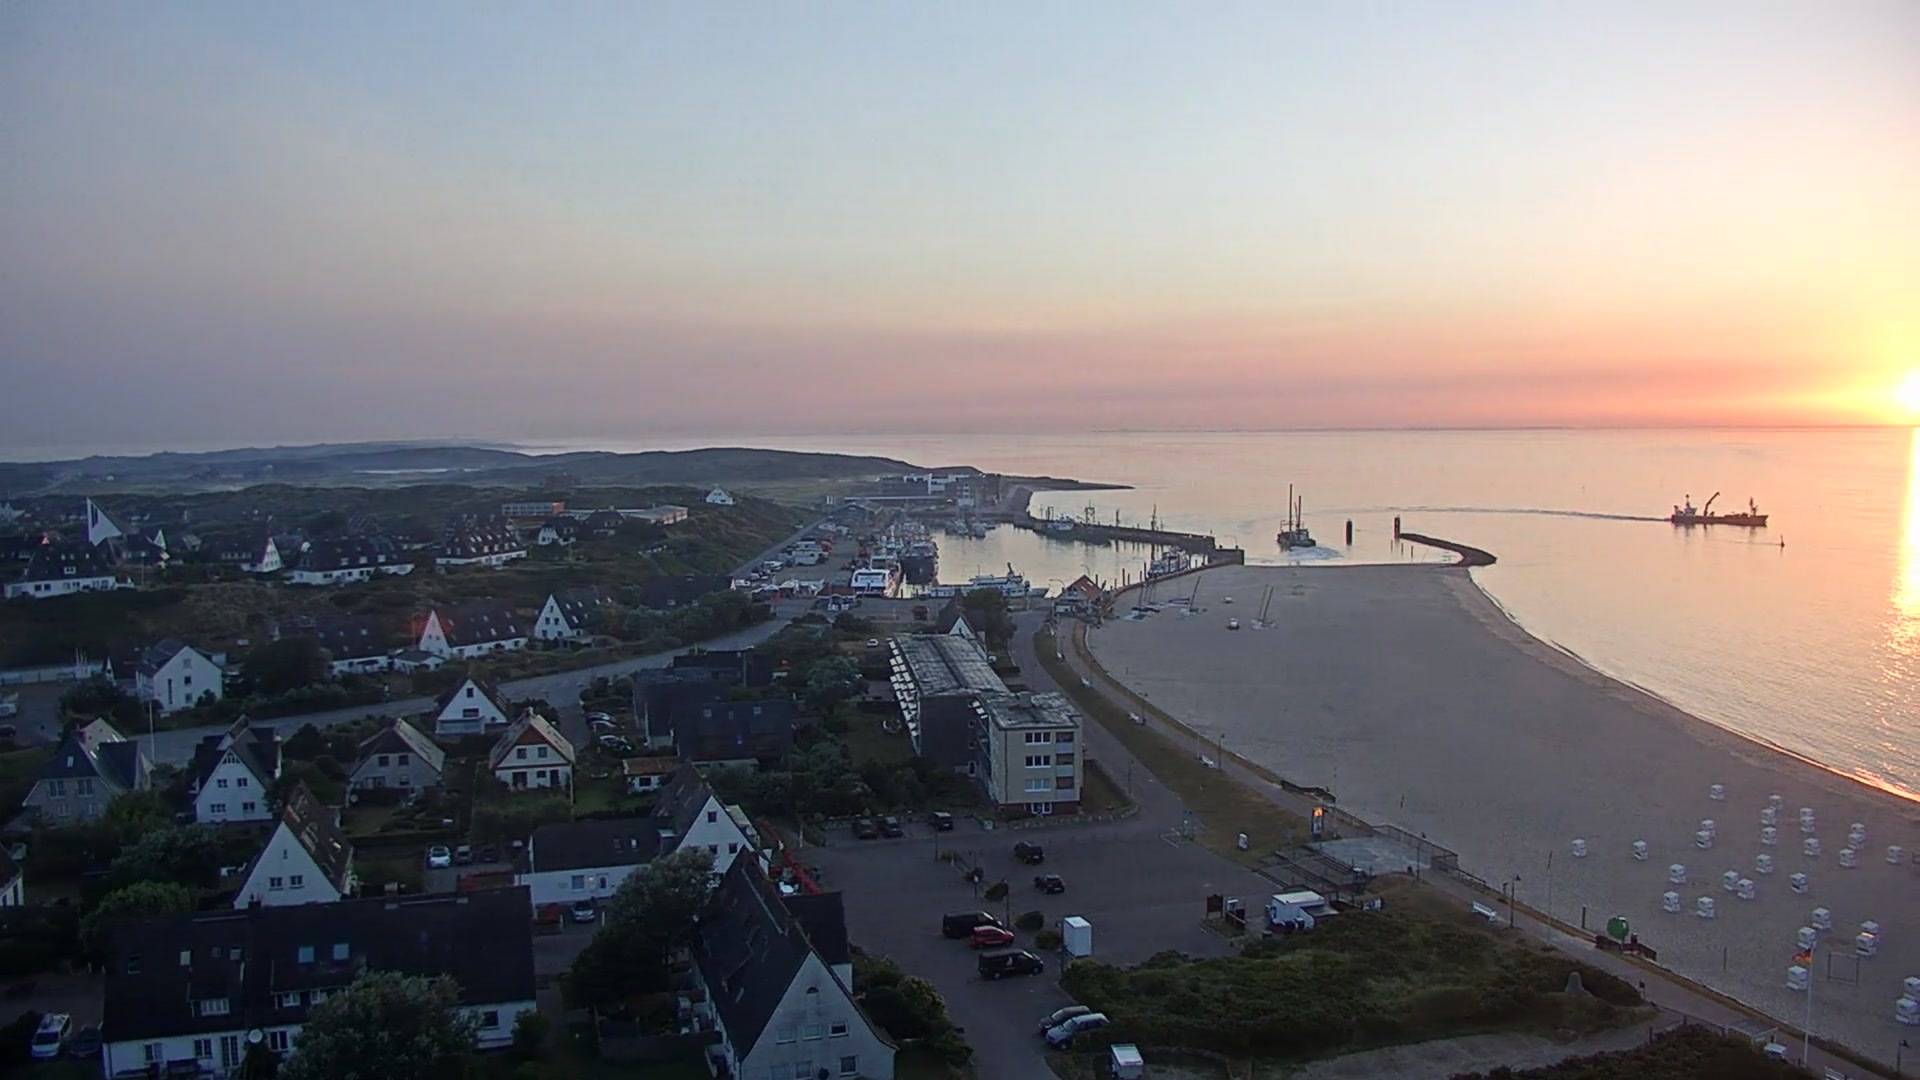land: (1042, 1011, 1110, 1048), (976, 945, 1044, 978), (29, 1010, 71, 1060), (942, 907, 1004, 940), (66, 1018, 105, 1062), (1036, 1004, 1091, 1034), (971, 923, 1015, 949), (1013, 839, 1044, 866), (1033, 872, 1065, 895), (568, 898, 596, 922), (926, 810, 953, 831), (427, 844, 451, 868), (878, 815, 903, 837), (851, 818, 878, 837), (476, 841, 498, 864), (454, 843, 473, 864), (600, 733, 626, 746), (585, 709, 615, 721), (588, 721, 617, 732), (1, 721, 18, 738), (1, 702, 17, 717)
sea: (924, 560, 1050, 599), (1669, 491, 1770, 526), (1275, 483, 1316, 550), (848, 550, 898, 596), (899, 531, 936, 582), (1249, 582, 1279, 632), (1145, 547, 1192, 578), (1179, 574, 1208, 616), (1124, 579, 1153, 621), (1131, 571, 1160, 613), (957, 516, 969, 535)
